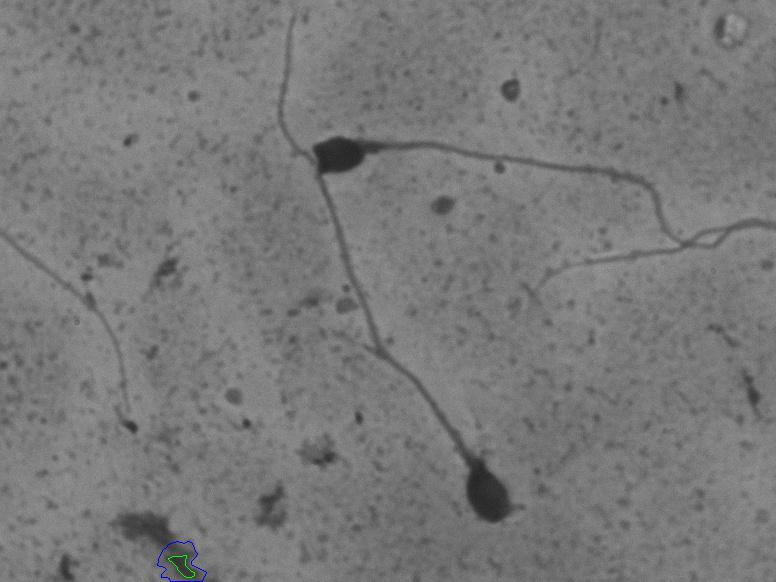Abnormal: (310, 94, 757, 231)
Normal: (248, 14, 516, 533)
